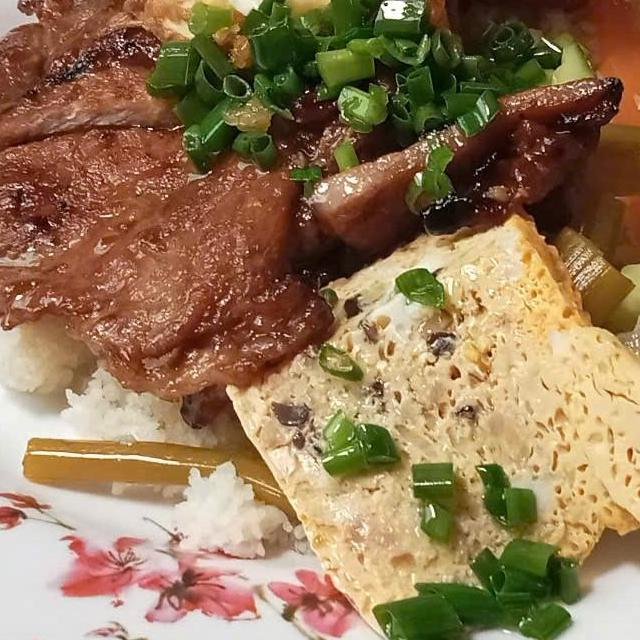cha: (215, 210, 640, 640)
com: (0, 276, 263, 466), (170, 457, 296, 572)
com suon bi cha trung: (0, 0, 640, 640)
dua chua: (530, 0, 640, 337)
suon: (0, 0, 409, 437), (294, 74, 628, 270)
trung: (20, 0, 640, 75)
